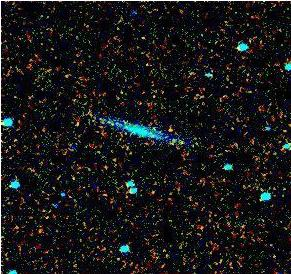star: (155, 113, 185, 143)
